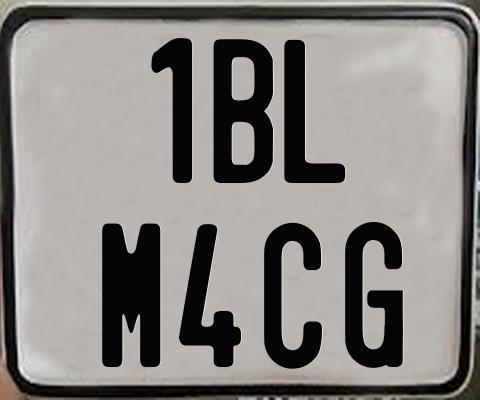1: (150, 36, 197, 185)
4: (176, 223, 238, 369)
B: (210, 37, 274, 187)
C: (264, 223, 322, 370)
G: (343, 220, 404, 368)
L: (284, 38, 351, 187)
M: (100, 223, 164, 368)
